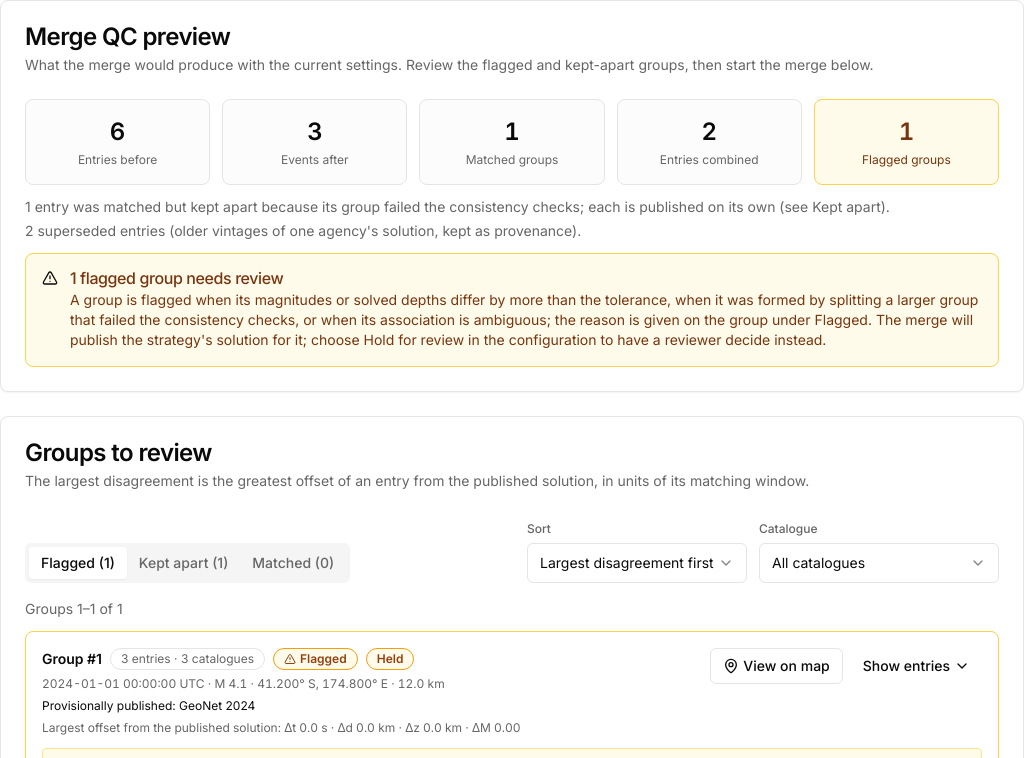
it: MergePreviewQC kept-apart entries › counts them, lists them under Kept apart and gives the reason
Expected: the list item "1 entry was matched but kept apart because its group failed the consistency checks" is shown, top-left (25, 197), bottom-right (999, 217)
Step 1. Press the mouse on the tab "Kept apart (1)" → (184, 563), box top-left (127, 547), bottom-right (240, 579)
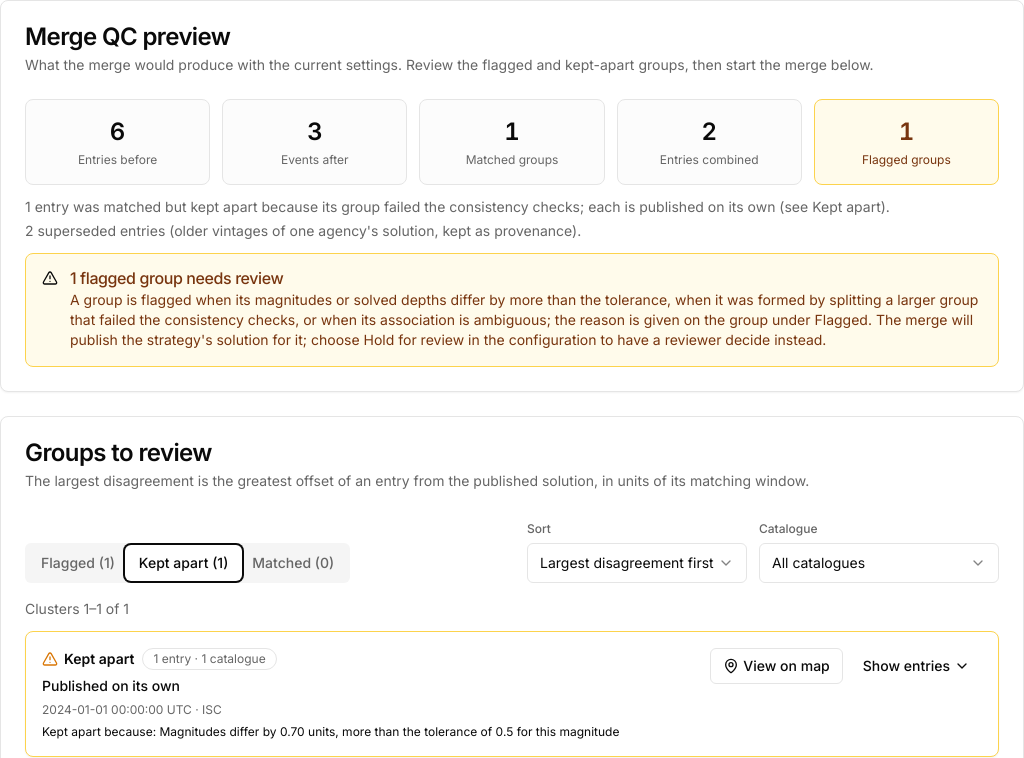
Result: the heading "Kept apart" is shown at top-left (42, 649), bottom-right (134, 669)
Result: the text with test id "split-outcome" reads "Published on its own" at top-left (42, 677), bottom-right (180, 694)
Result: the text with test id "split-reason" shows "Kept apart because: Magnitudes differ by 0.70 units, more than the tolerance of 0.5 for this magnitude" at top-left (42, 724), bottom-right (620, 740)
